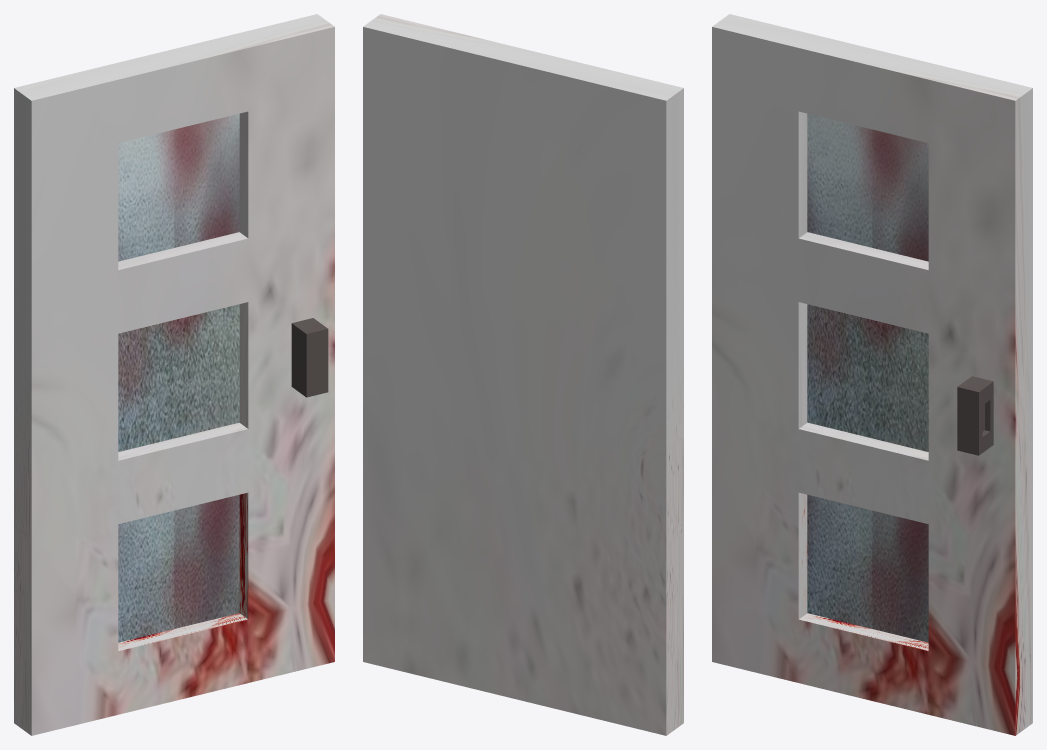
Rendered from Puerta_19.fbx.
The picture shows the model from 3 angles, left to right: view 1: azimuth 30°, elevation 25°; view 2: azimuth 150°, elevation 25°; view 3: azimuth 330°, elevation 25°; orthographic projection.
Parts seen in each view (by area): view 1: Cube.019; view 2: Cube.019; view 3: Cube.019.
Boxes of the visible parts, left/top/right/bottom form: Cube.019: left=14, top=14, right=334, bottom=735; Cube.019: left=363, top=14, right=683, bottom=735; Cube.019: left=712, top=14, right=1032, bottom=735.
Bounding box in the file's own units: 200 × 400 × 37.
